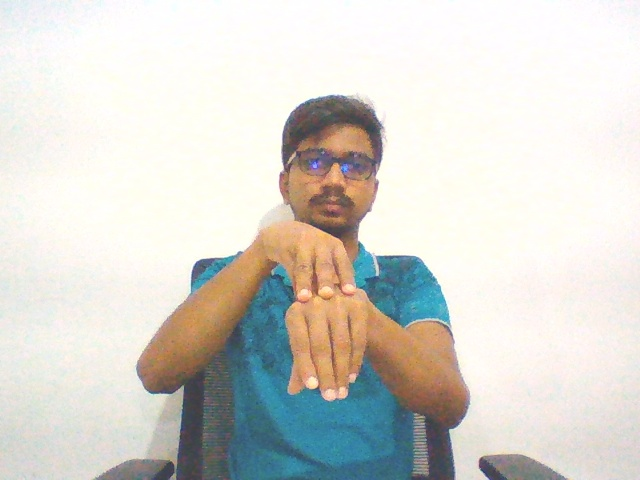papaya: (254, 213, 379, 408)
